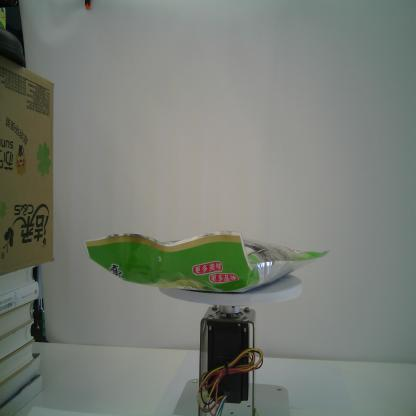Dried Food: (78, 222, 334, 295)
